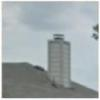chimneys: (47, 34, 72, 90)
